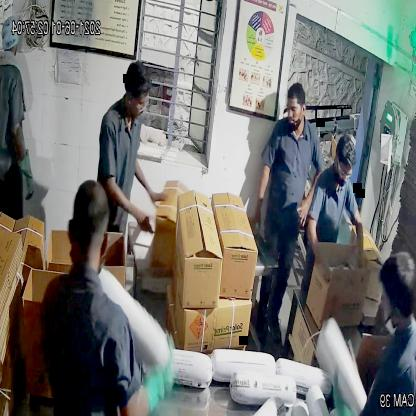goggles: (328, 157, 358, 182)
